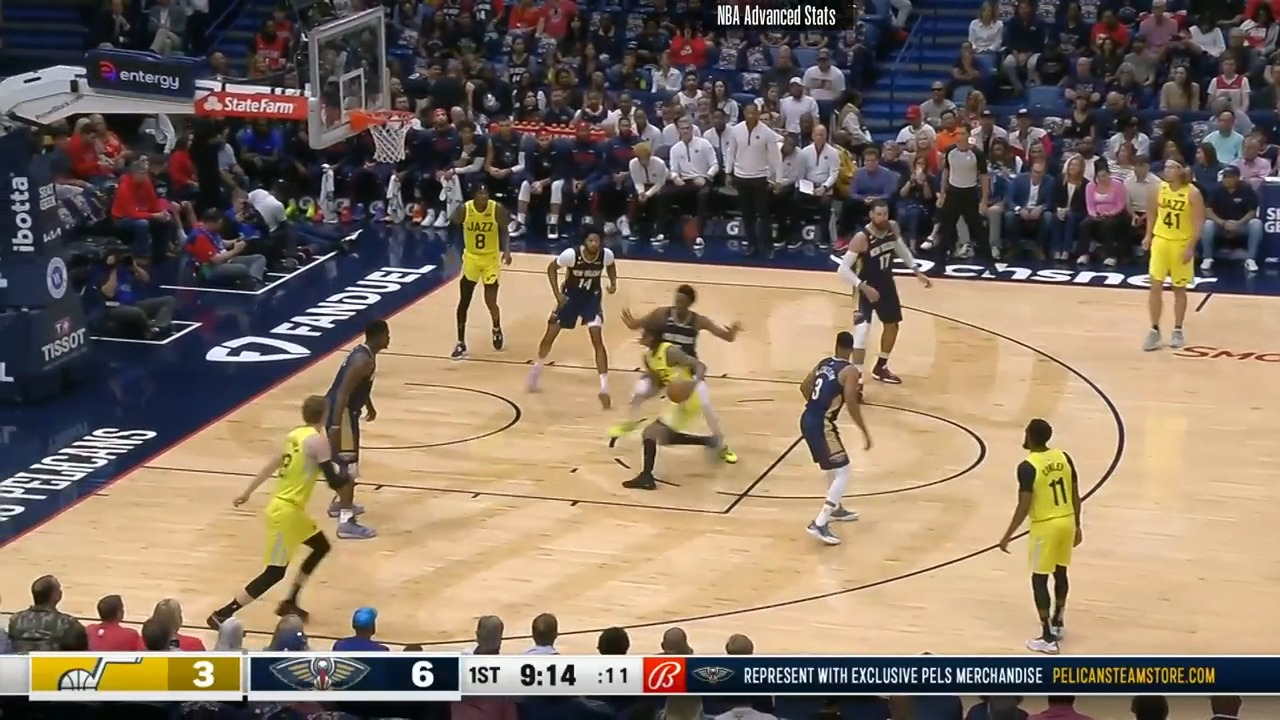net: (344, 103, 417, 167)
player: (229, 398, 352, 624), (597, 286, 749, 464), (623, 318, 742, 492), (996, 418, 1079, 656), (799, 339, 881, 551), (839, 204, 928, 392), (530, 228, 626, 402), (325, 319, 399, 537), (1134, 155, 1200, 354), (442, 177, 511, 359)
referee: (931, 119, 996, 281)
